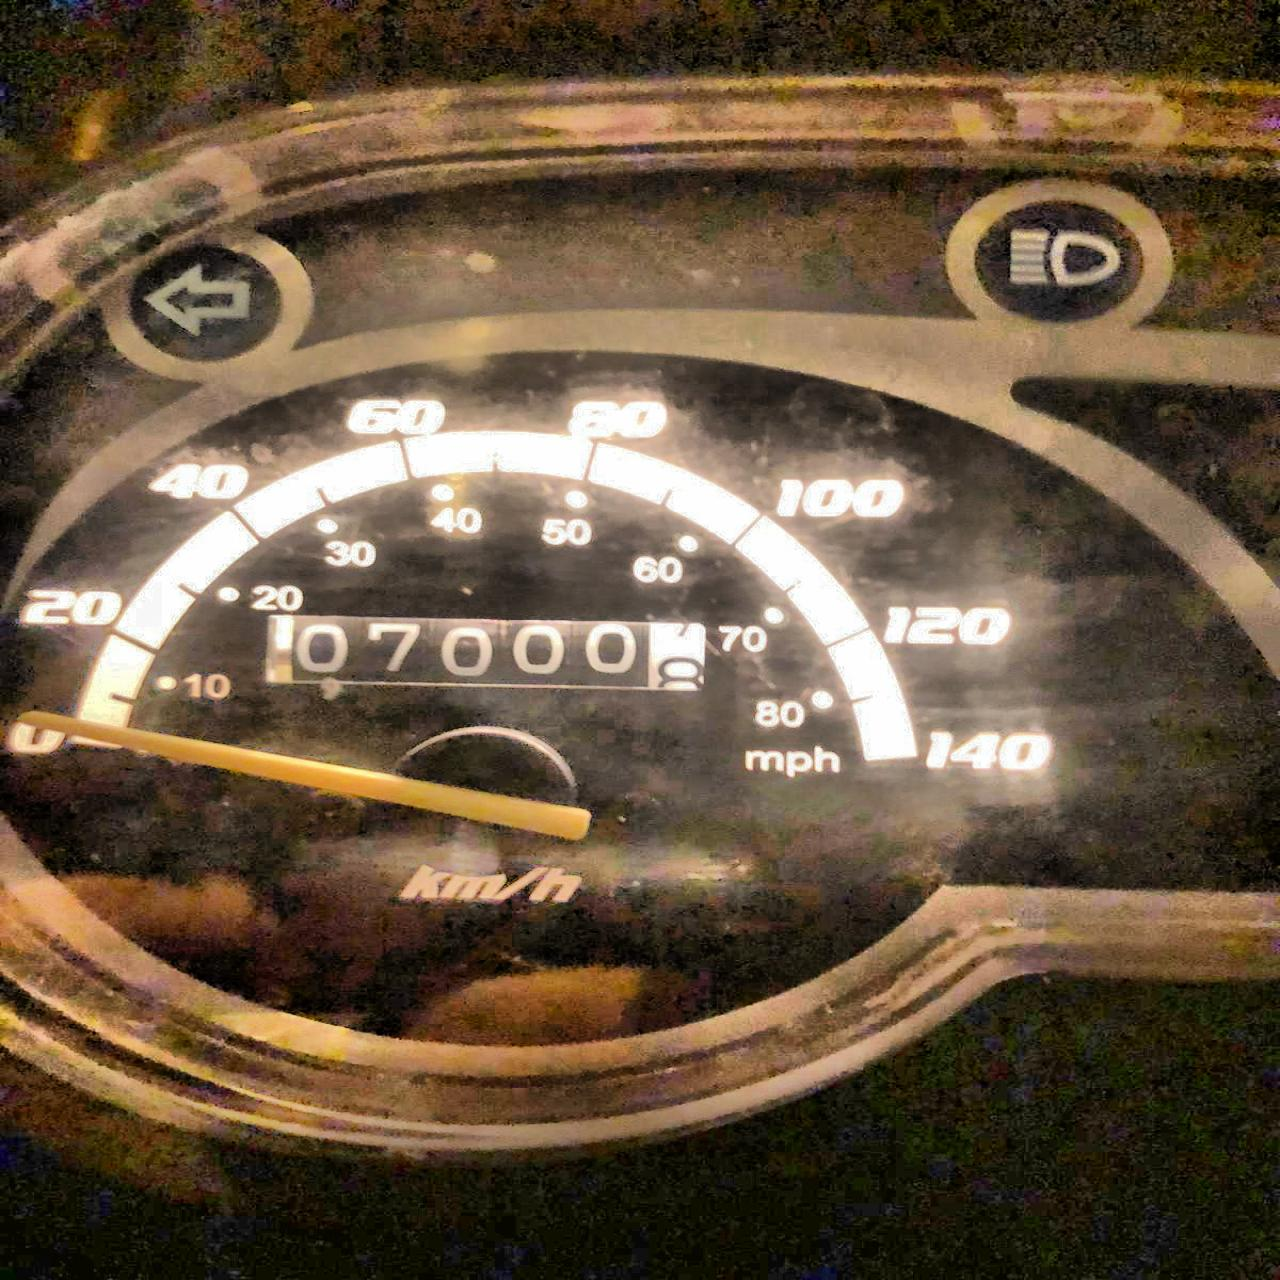0: (513, 619, 567, 686), (290, 620, 354, 675), (579, 619, 639, 676), (436, 626, 493, 680)
7: (365, 617, 421, 679)
8: (649, 649, 707, 702)
odometer: (257, 605, 722, 717)
